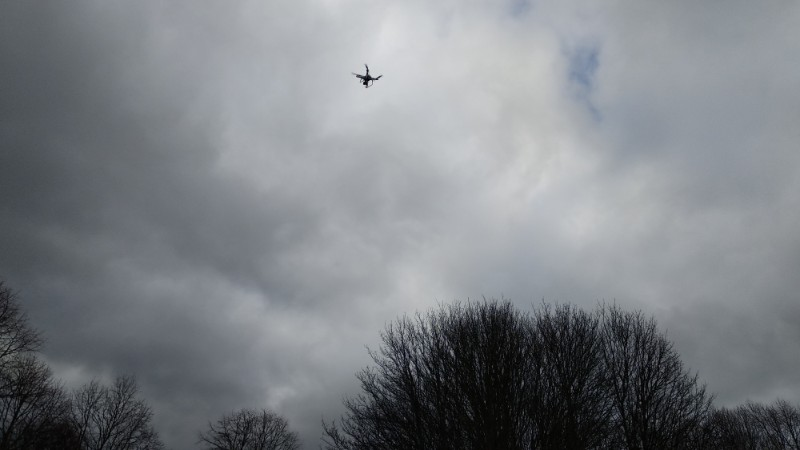drone: (352, 65, 383, 88)
